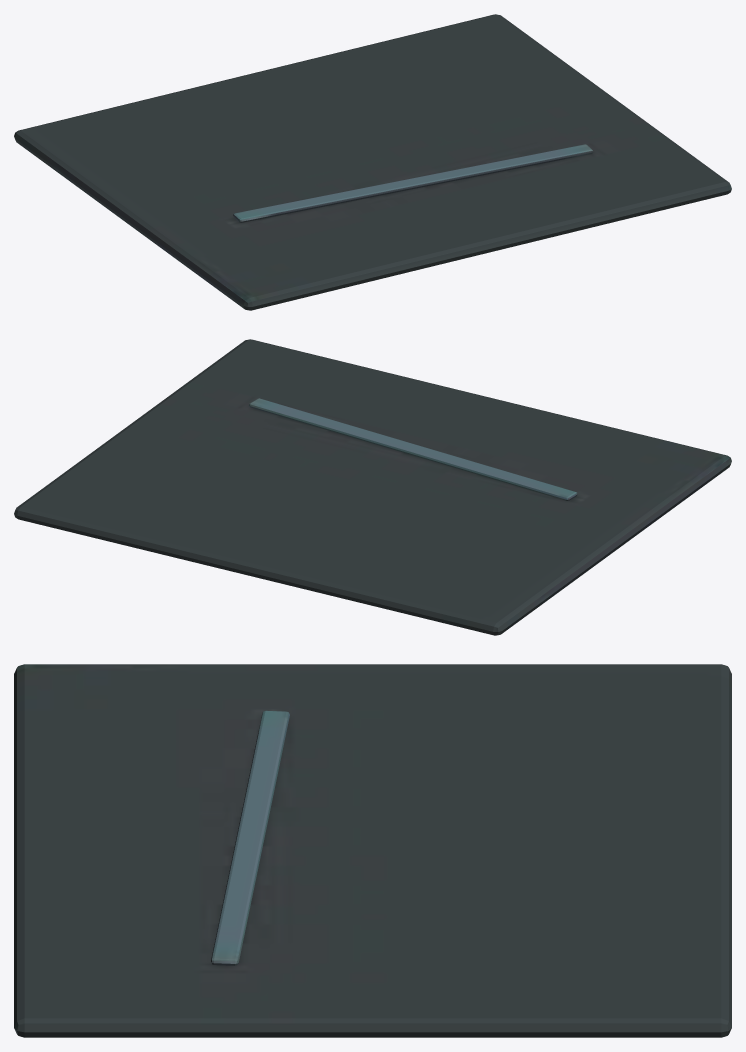
Rendered from dressing-mouse-pad.glb.
3 views of the same model, one above another, from view 1: azimuth 30°, elevation 25°; view 2: azimuth 150°, elevation 25°; view 3: azimuth 270°, elevation 25° (orthographic). The views are drawn at different scales.
Visible parts, largest first — view 1: case-baked; view 2: case-baked; view 3: case-baked.
Part boxes in pixels (left/top/right/bottom): case-baked: left=14, top=14, right=731, bottom=310; case-baked: left=14, top=339, right=731, bottom=635; case-baked: left=14, top=664, right=731, bottom=1037.
Size of the model in its own units: 0.245 by 0.00799 by 0.205.
Materials: 1 (1 with a texture image).
